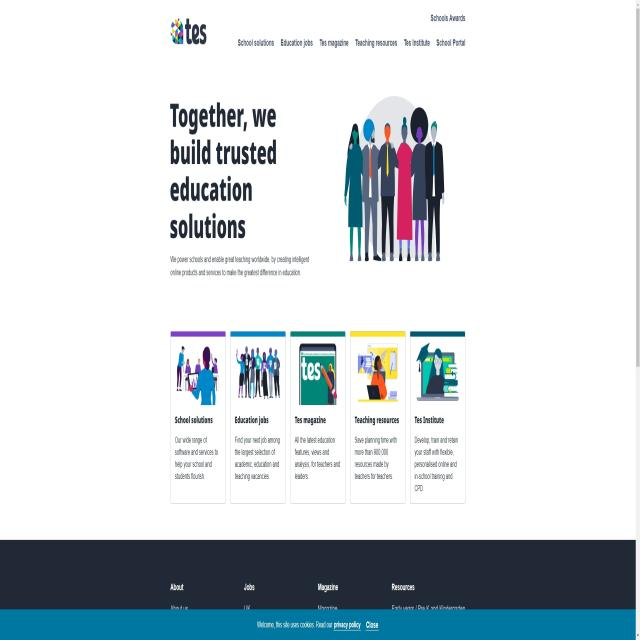menu-bar: (235, 29, 467, 55)
